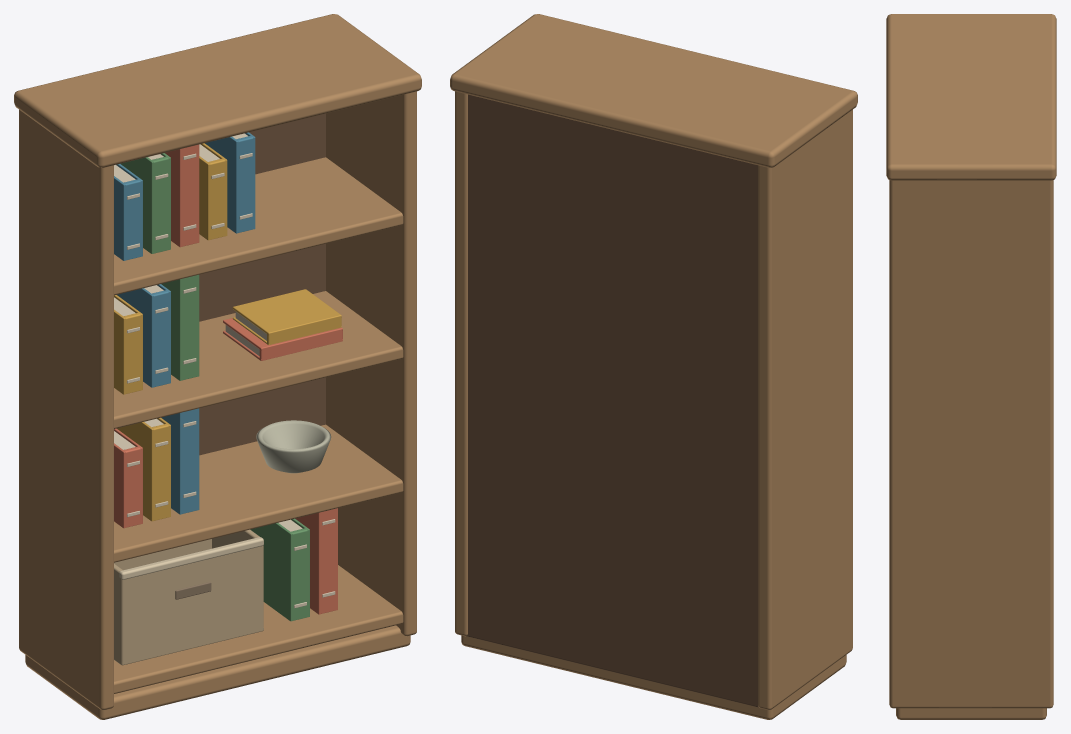
Rendered from bookshelf.glb.
3 renders of one model, left to right at view 1: azimuth 30°, elevation 25°; view 2: azimuth 150°, elevation 25°; view 3: azimuth 270°, elevation 25°, orthographic. The views are drawn at different scales.
Parts seen in each view (by area): view 1: case-side--1, proud-crown-cap, case-side-1, supported-shelf-1, supported-shelf-3, continuous-recessed-back, supported-shelf-2, lower-linen-bin-face-1, supported-shelf-0, grounded-recessed-plinth, shelf-ceramic-bowl, horizontal-folio-2-cover-1-4450000000000003 (+33 smaller); view 2: continuous-recessed-back, case-side--1, proud-crown-cap, case-side-1, grounded-recessed-plinth; view 3: case-side-1, proud-crown-cap, grounded-recessed-plinth.
Boxes of the visible parts, bbox=[...] form: case-side--1: bbox=[19, 89, 113, 709]; proud-crown-cap: bbox=[14, 14, 421, 167]; case-side-1: bbox=[326, 53, 416, 636]; supported-shelf-1: bbox=[114, 424, 403, 562]; supported-shelf-3: bbox=[114, 157, 403, 295]; continuous-recessed-back: bbox=[199, 113, 325, 455]; supported-shelf-2: bbox=[114, 291, 403, 428]; lower-linen-bin-face-1: bbox=[119, 546, 262, 663]; supported-shelf-0: bbox=[114, 565, 403, 693]; grounded-recessed-plinth: bbox=[25, 625, 410, 719]; shelf-ceramic-bowl: bbox=[256, 420, 331, 473]; horizontal-folio-2-cover-1-4450000000000003: bbox=[232, 289, 341, 334]; continuous-recessed-back: bbox=[466, 94, 758, 707]; case-side--1: bbox=[758, 89, 852, 709]; proud-crown-cap: bbox=[450, 14, 857, 167]; case-side-1: bbox=[455, 91, 467, 636]; grounded-recessed-plinth: bbox=[461, 635, 846, 719]; case-side-1: bbox=[889, 159, 1053, 708]; proud-crown-cap: bbox=[886, 14, 1056, 180]; grounded-recessed-plinth: bbox=[896, 708, 1046, 719].
Size of the model in its own units: 1.5 by 2.53 by 0.7.
